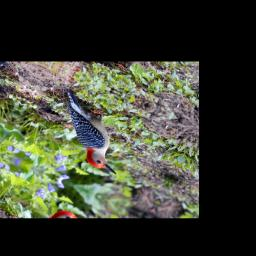Woodpecker: (36, 87, 146, 176)
